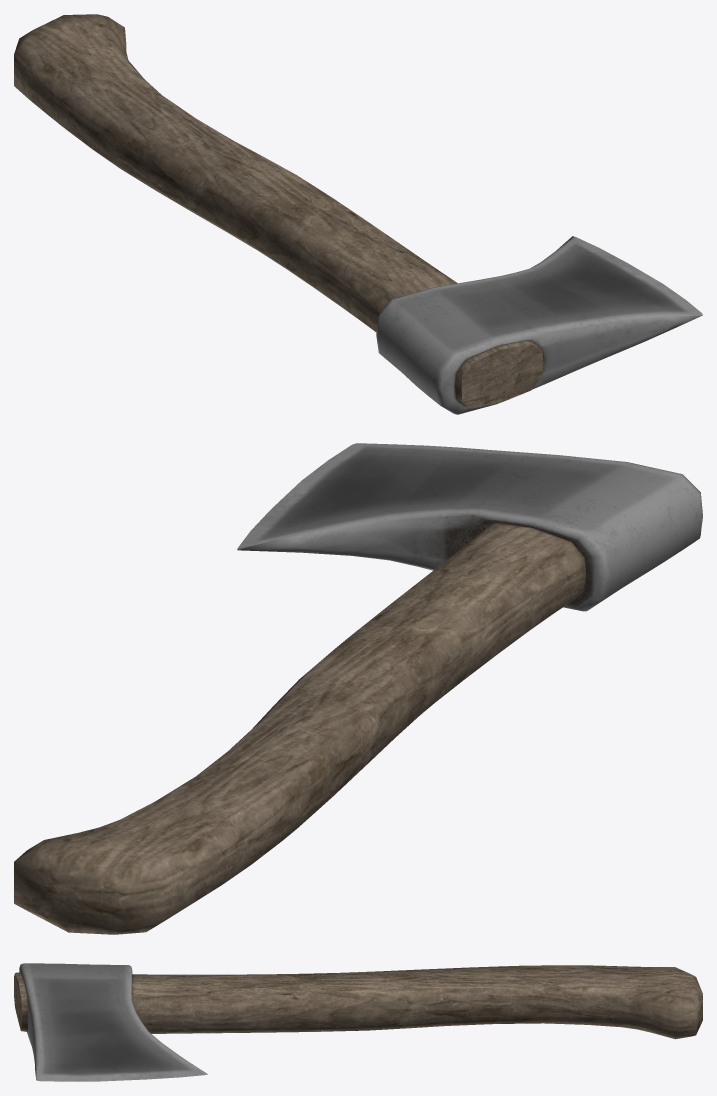
The model's file is Axe.fbx.
The picture shows the model from 3 angles, top to bottom: view 1: azimuth 30°, elevation 25°; view 2: azimuth 150°, elevation 25°; view 3: azimuth 270°, elevation 25°; orthographic projection. The views are drawn at different scales.
Parts seen in each view (by area): view 1: Axe; view 2: Axe; view 3: Axe.
Part boxes in pixels (x1,y1,x2,y2): Axe: [14, 14, 702, 414]; Axe: [14, 443, 702, 934]; Axe: [14, 963, 702, 1081].
Bounding box in the file's own units: 22.5 × 5.14 × 64.24.
